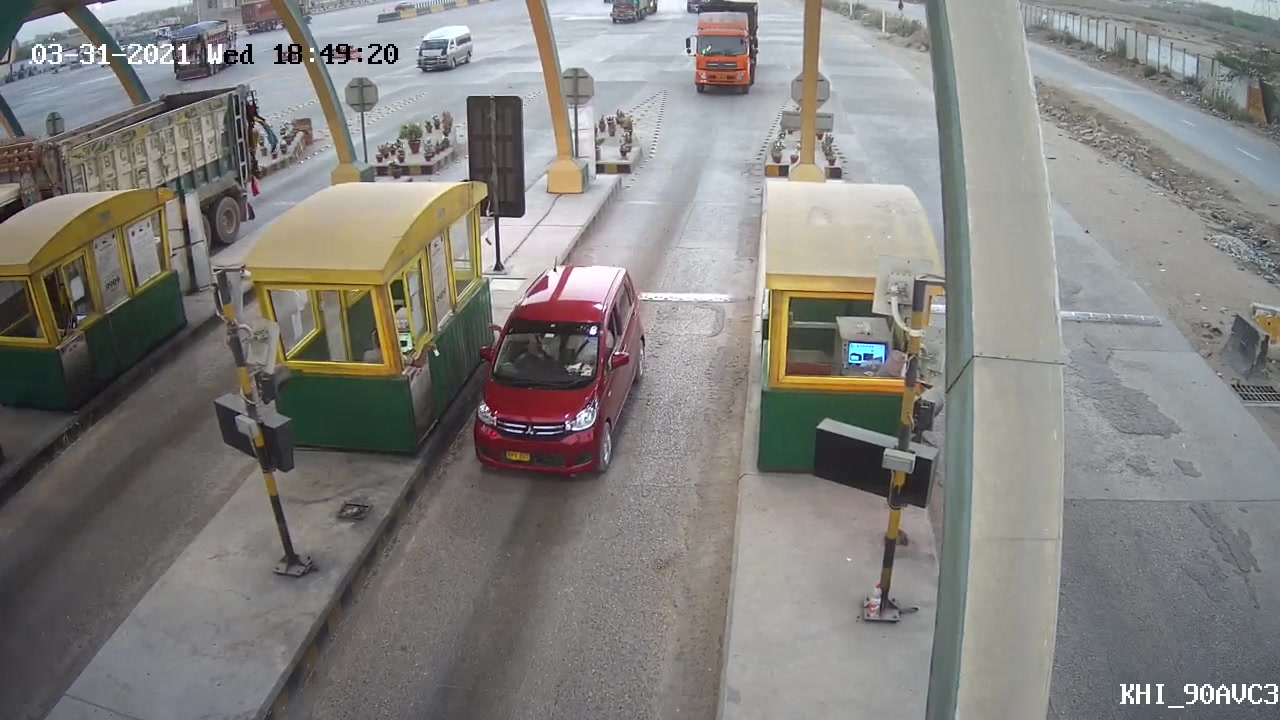F1: (468, 259, 665, 481)
